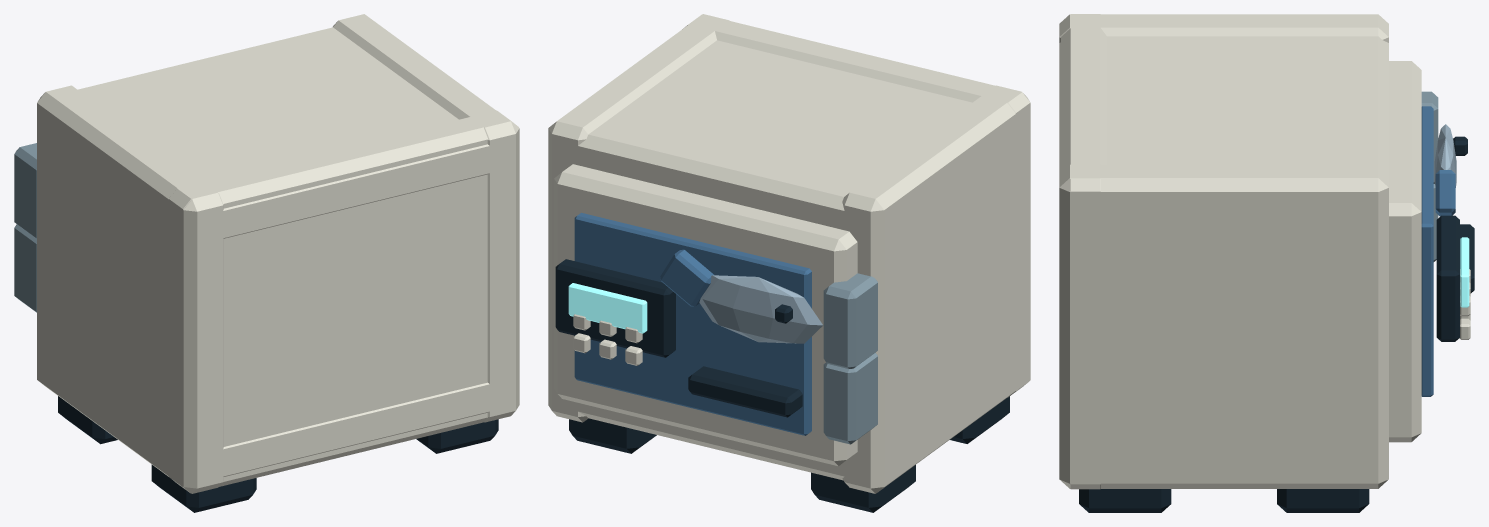
Rendered from compact_safe.glb.
3 views of the same model, side by side, from view 1: azimuth 30°, elevation 25°; view 2: azimuth 150°, elevation 25°; view 3: azimuth 270°, elevation 25° (orthographic). The views are drawn at different scales.
Visible parts, largest first — view 1: back, left, top, right, bottom, foot (×3), hinge (×2); view 2: left, top, door_panel, inset, back, hinge (×2), right, bottom, display, whale_badge, foot (×3), handle (+2 smaller); view 3: right, top, back, door_panel, bottom, left, foot (×2), inset, display, tail_left, whale_badge, screen (+2 smaller).
Boxes of the visible parts, box(x1,y1,x2,y2) form: back: box(169, 110, 518, 493); left: box(37, 85, 223, 493); top: box(37, 27, 519, 244); right: box(333, 14, 519, 422); bottom: box(37, 347, 519, 482); foot (×3): box(58, 396, 498, 512); hinge (×2): box(14, 143, 36, 312); left: box(842, 85, 1030, 493); top: box(548, 40, 1014, 244); door_panel: box(554, 164, 857, 466); inset: box(574, 212, 811, 435); back: box(682, 14, 1030, 397); hinge (×2): box(823, 273, 877, 444); right: box(548, 14, 729, 422); bottom: box(548, 347, 1030, 482); display: box(555, 259, 675, 357); whale_badge: box(699, 275, 822, 343); foot (×3): box(569, 396, 1009, 512); handle: box(688, 366, 802, 417); right: box(1059, 164, 1388, 488); top: box(1059, 36, 1388, 226); back: box(1061, 14, 1106, 489); door_panel: box(1389, 61, 1421, 442); bottom: box(1059, 445, 1388, 477); left: box(1059, 14, 1388, 42); foot (×2): box(1079, 489, 1369, 512); inset: box(1421, 106, 1433, 396); display: box(1436, 215, 1459, 341); tail_left: box(1435, 170, 1455, 216); whale_badge: box(1434, 124, 1456, 187); screen: box(1460, 237, 1469, 307).
Size of the model in its own units: 0.62 by 0.57 by 0.63.
